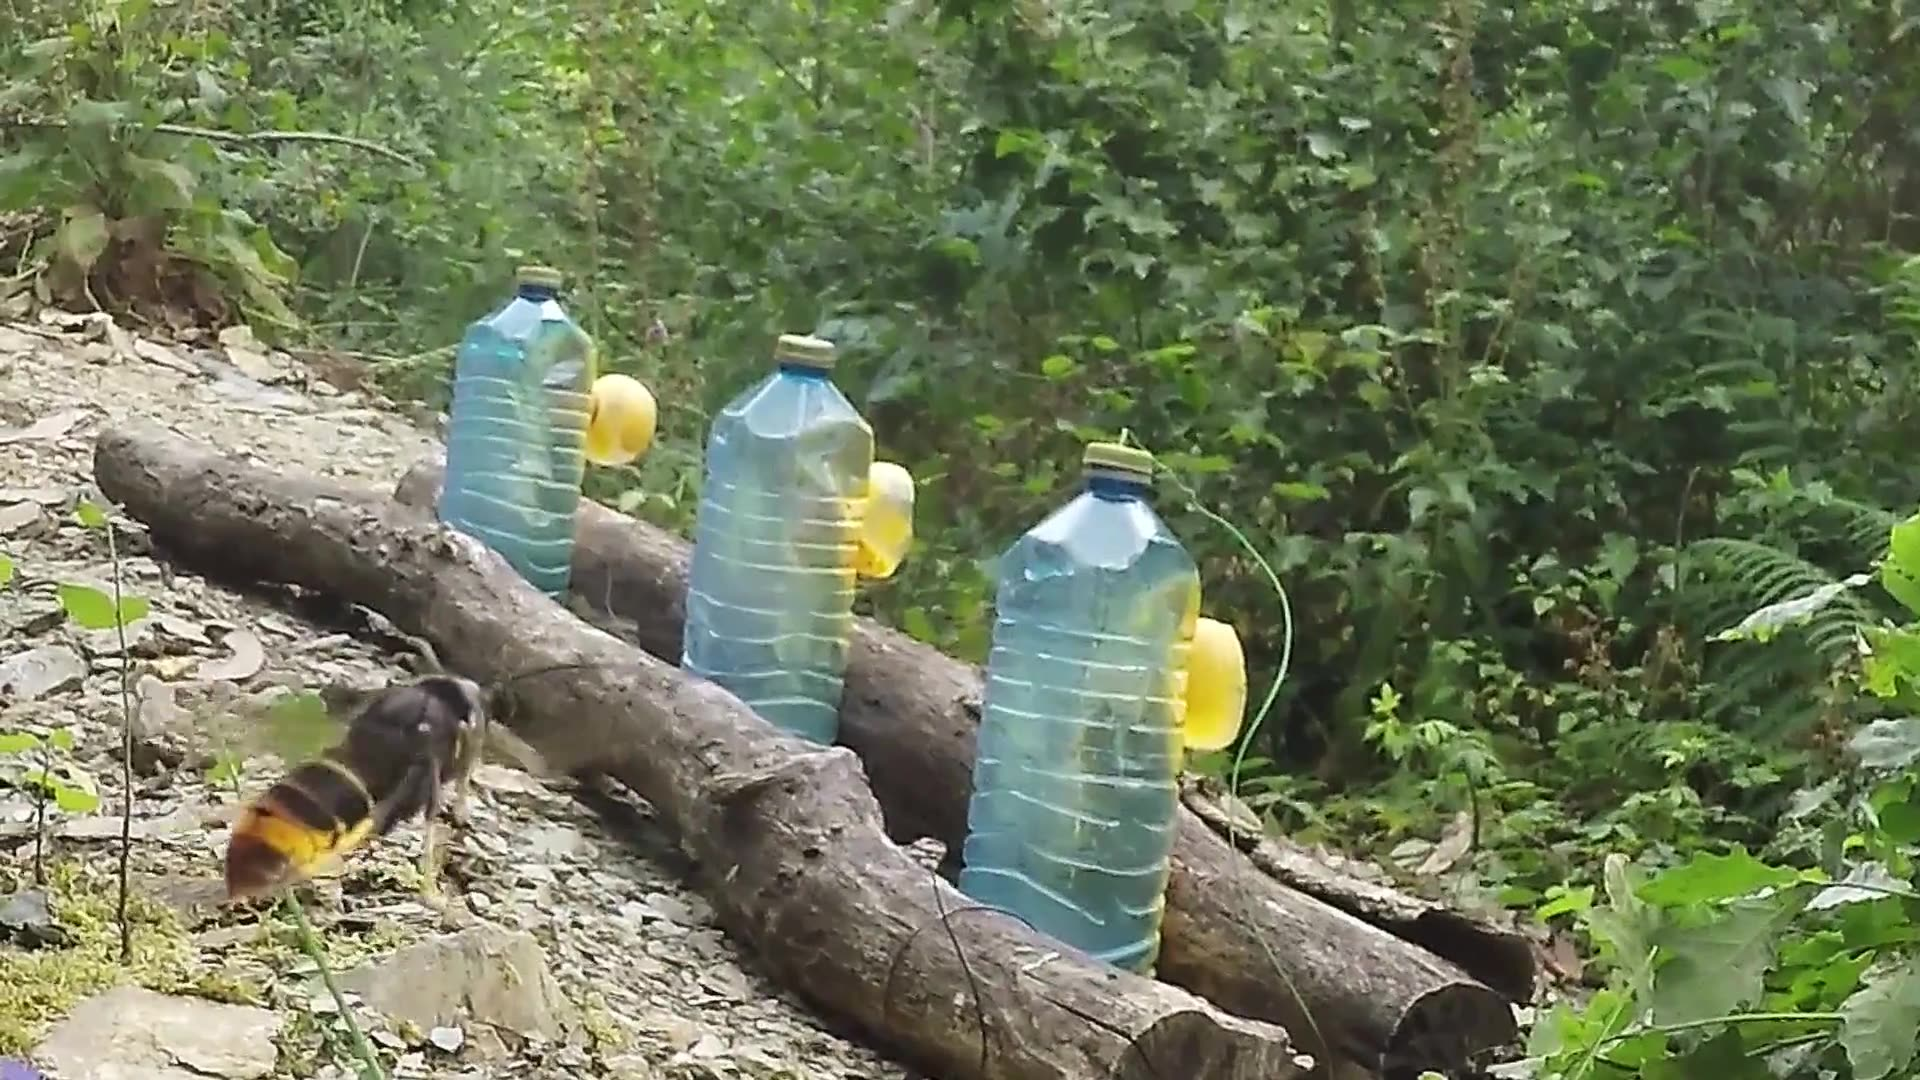hornet: (212, 670, 493, 913)
